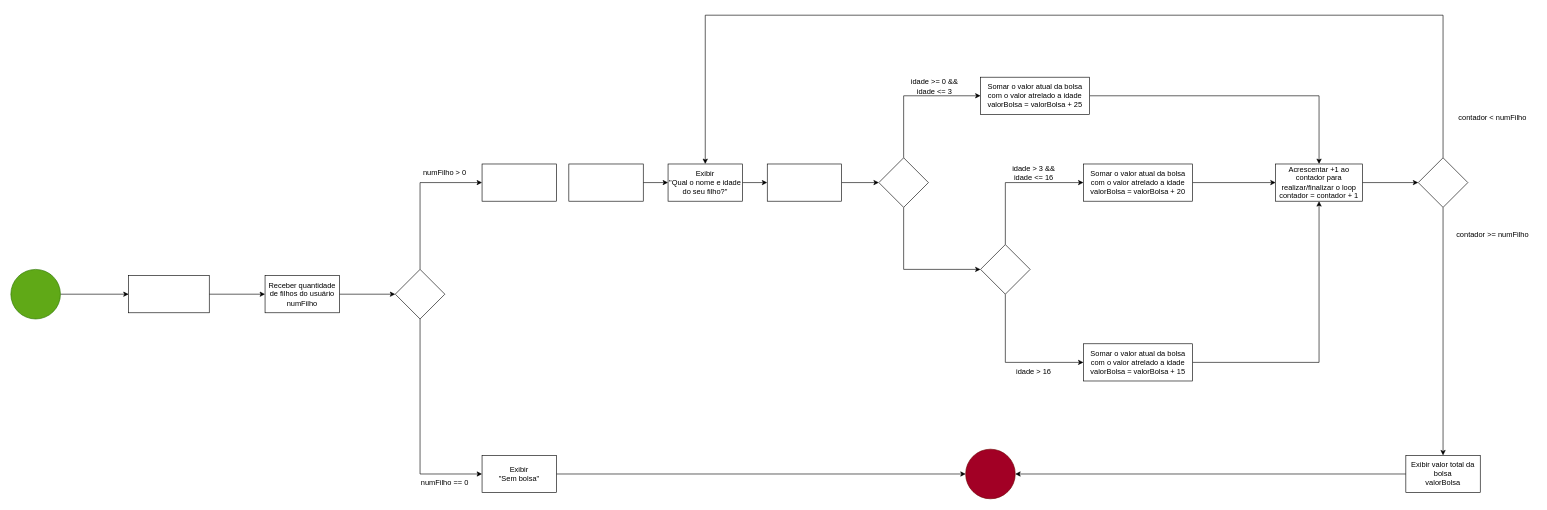
The diagram is 1547 pixels wide and 510 high, and some of its shapes have lost their labels. Each missing label, with the centre of its shape:
Criar um contador para um Loop (for/while) contador = 0: the point at 605,182
Declarar a variável do valor da bolsa antes do loop valorBolsa = 0: the point at 518,182
Exibir "Qual a quantidade de filhos menores de 18 anos você possui?": the point at 168,294
Receber apenas a idade do filho idade: the point at 804,182
